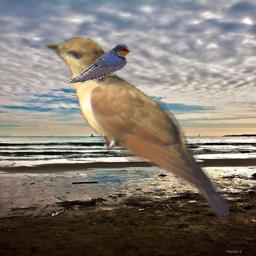Cuckoo: (44, 37, 229, 219)
Swallow: (60, 43, 133, 84)
